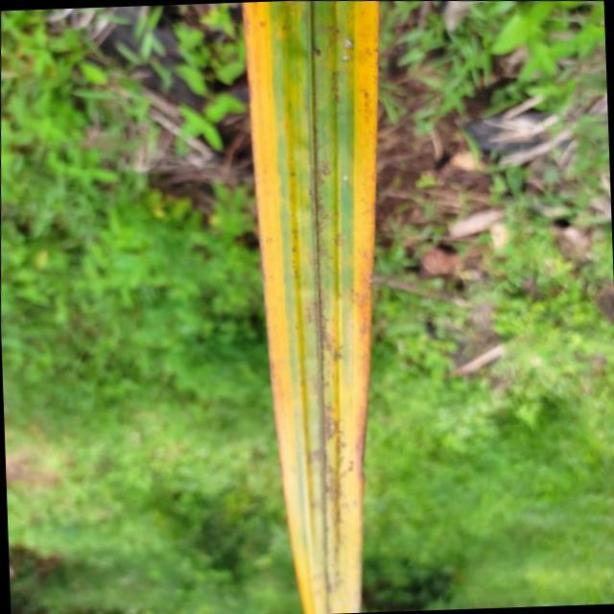Megnesium: (240, 0, 379, 614)
